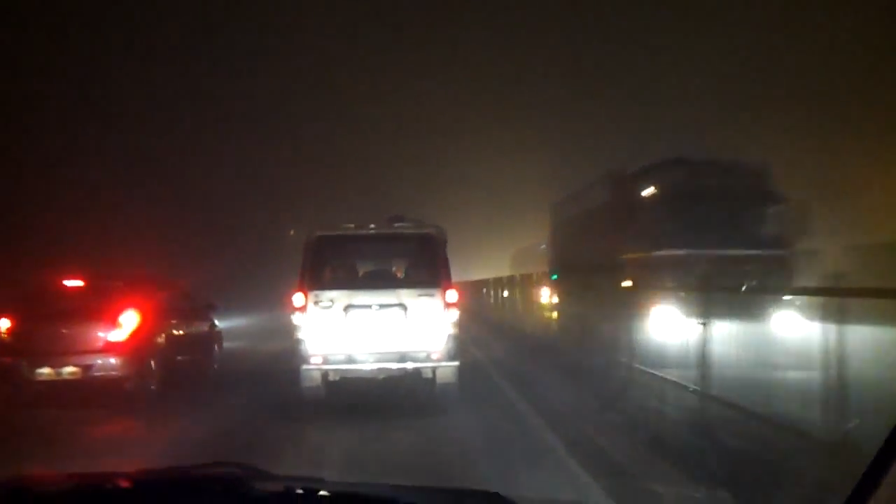bus: (548, 152, 804, 355), (510, 239, 602, 322)
car: (289, 219, 463, 401), (1, 263, 224, 397)
